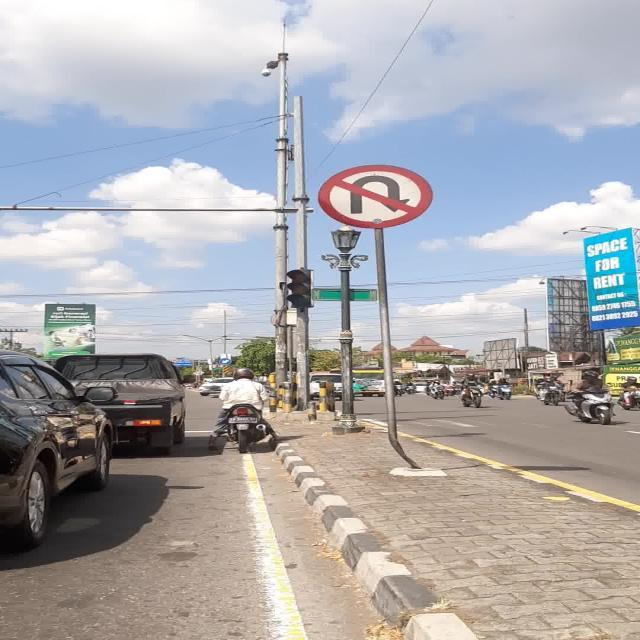Dilarang Putar Balik: (316, 164, 434, 228)
